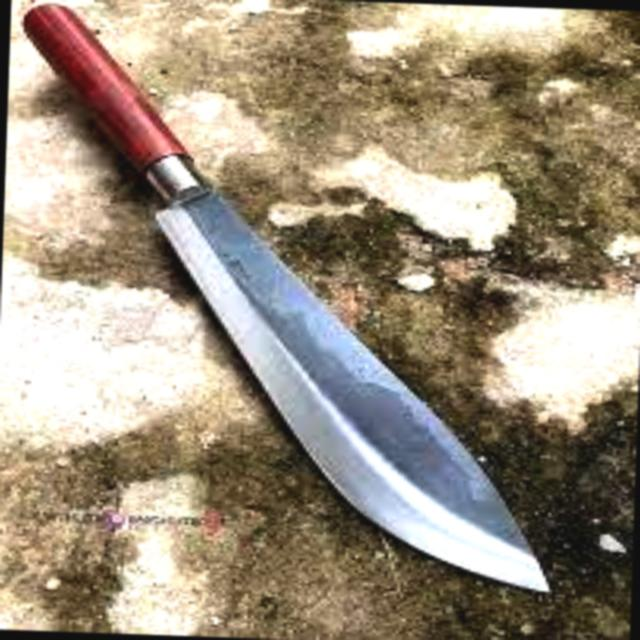eto: (11, 0, 563, 604)
